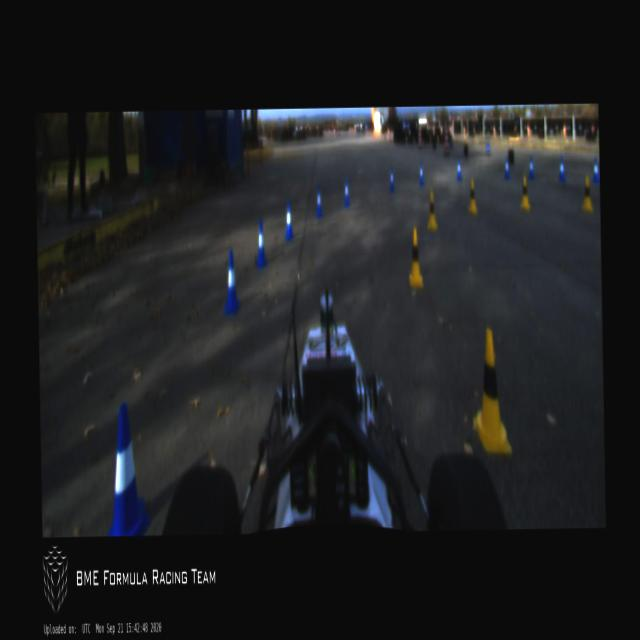blue_cone: (104, 404, 150, 536), (222, 251, 240, 317), (254, 218, 266, 266), (282, 199, 294, 239), (592, 156, 600, 184), (558, 156, 566, 182), (343, 178, 350, 206), (316, 187, 322, 217), (417, 161, 424, 184), (456, 156, 462, 180), (388, 168, 394, 191), (528, 156, 534, 178), (504, 155, 509, 180)
yellow_cone: (472, 327, 508, 448), (407, 229, 423, 286), (426, 189, 437, 229), (467, 176, 478, 214), (519, 173, 530, 210), (582, 174, 592, 211)
